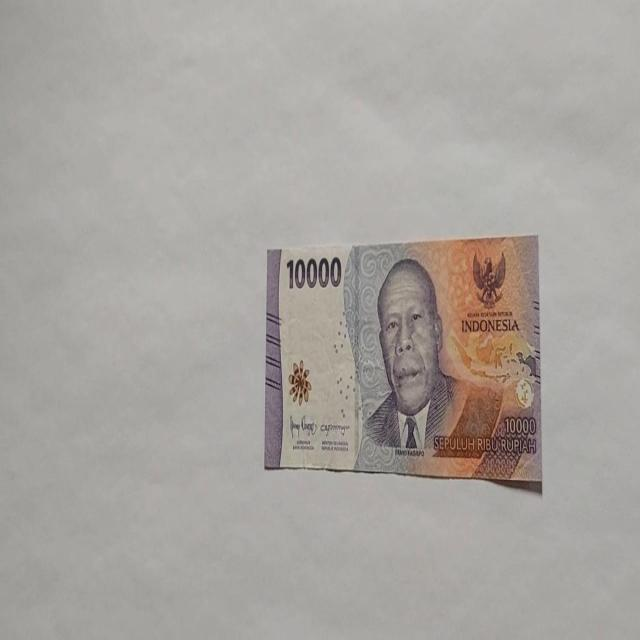Kertas: (264, 233, 542, 490), (285, 253, 343, 291)
